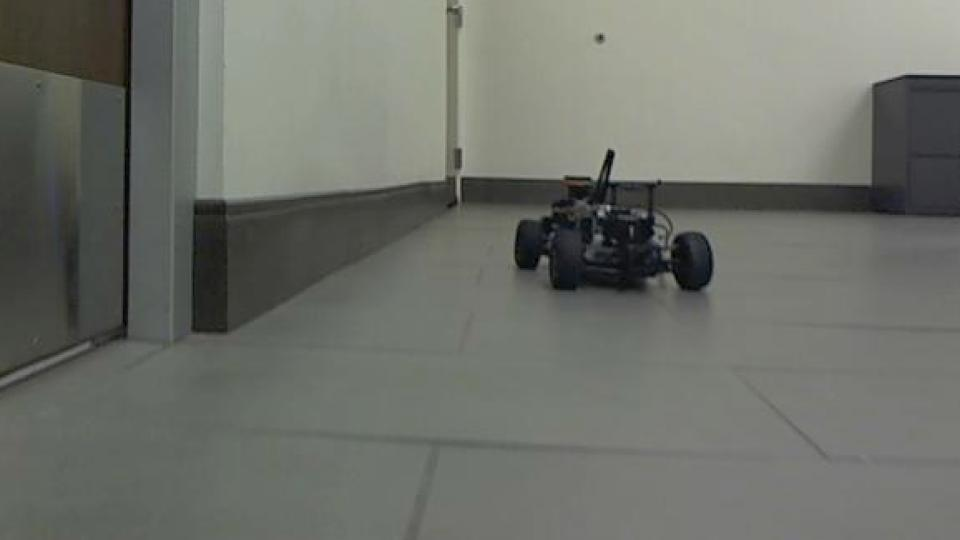car: (512, 145, 719, 297)
